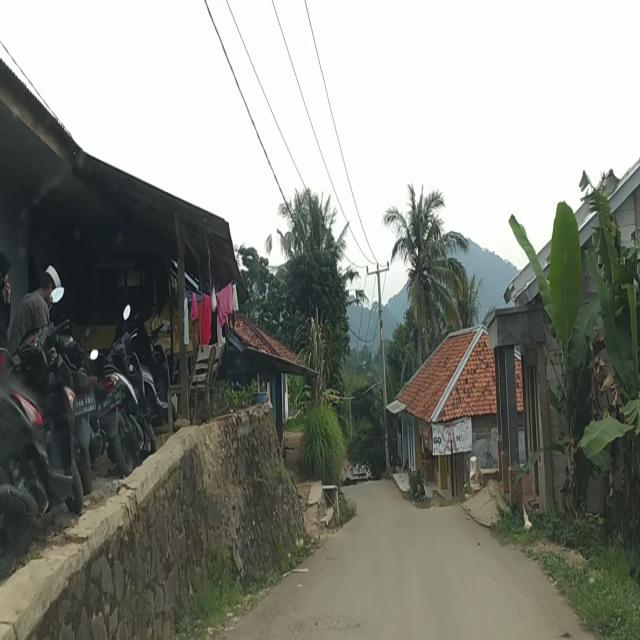Drain Hole: (268, 606, 364, 636)
